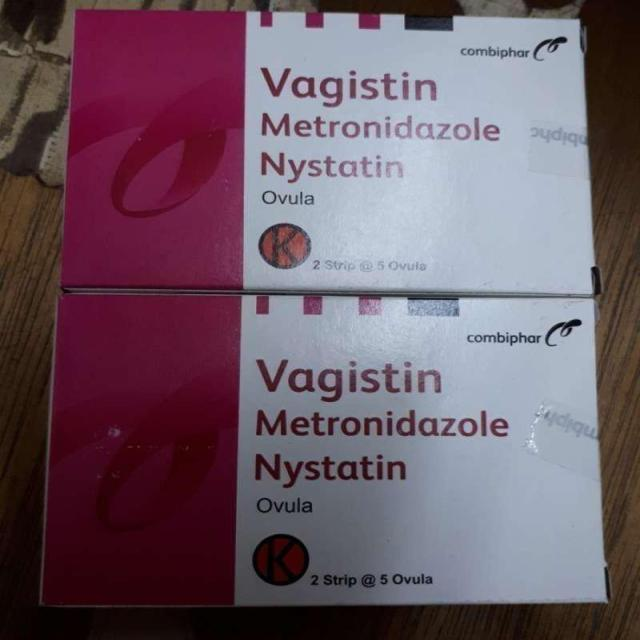drug-name: (254, 356, 448, 402)
